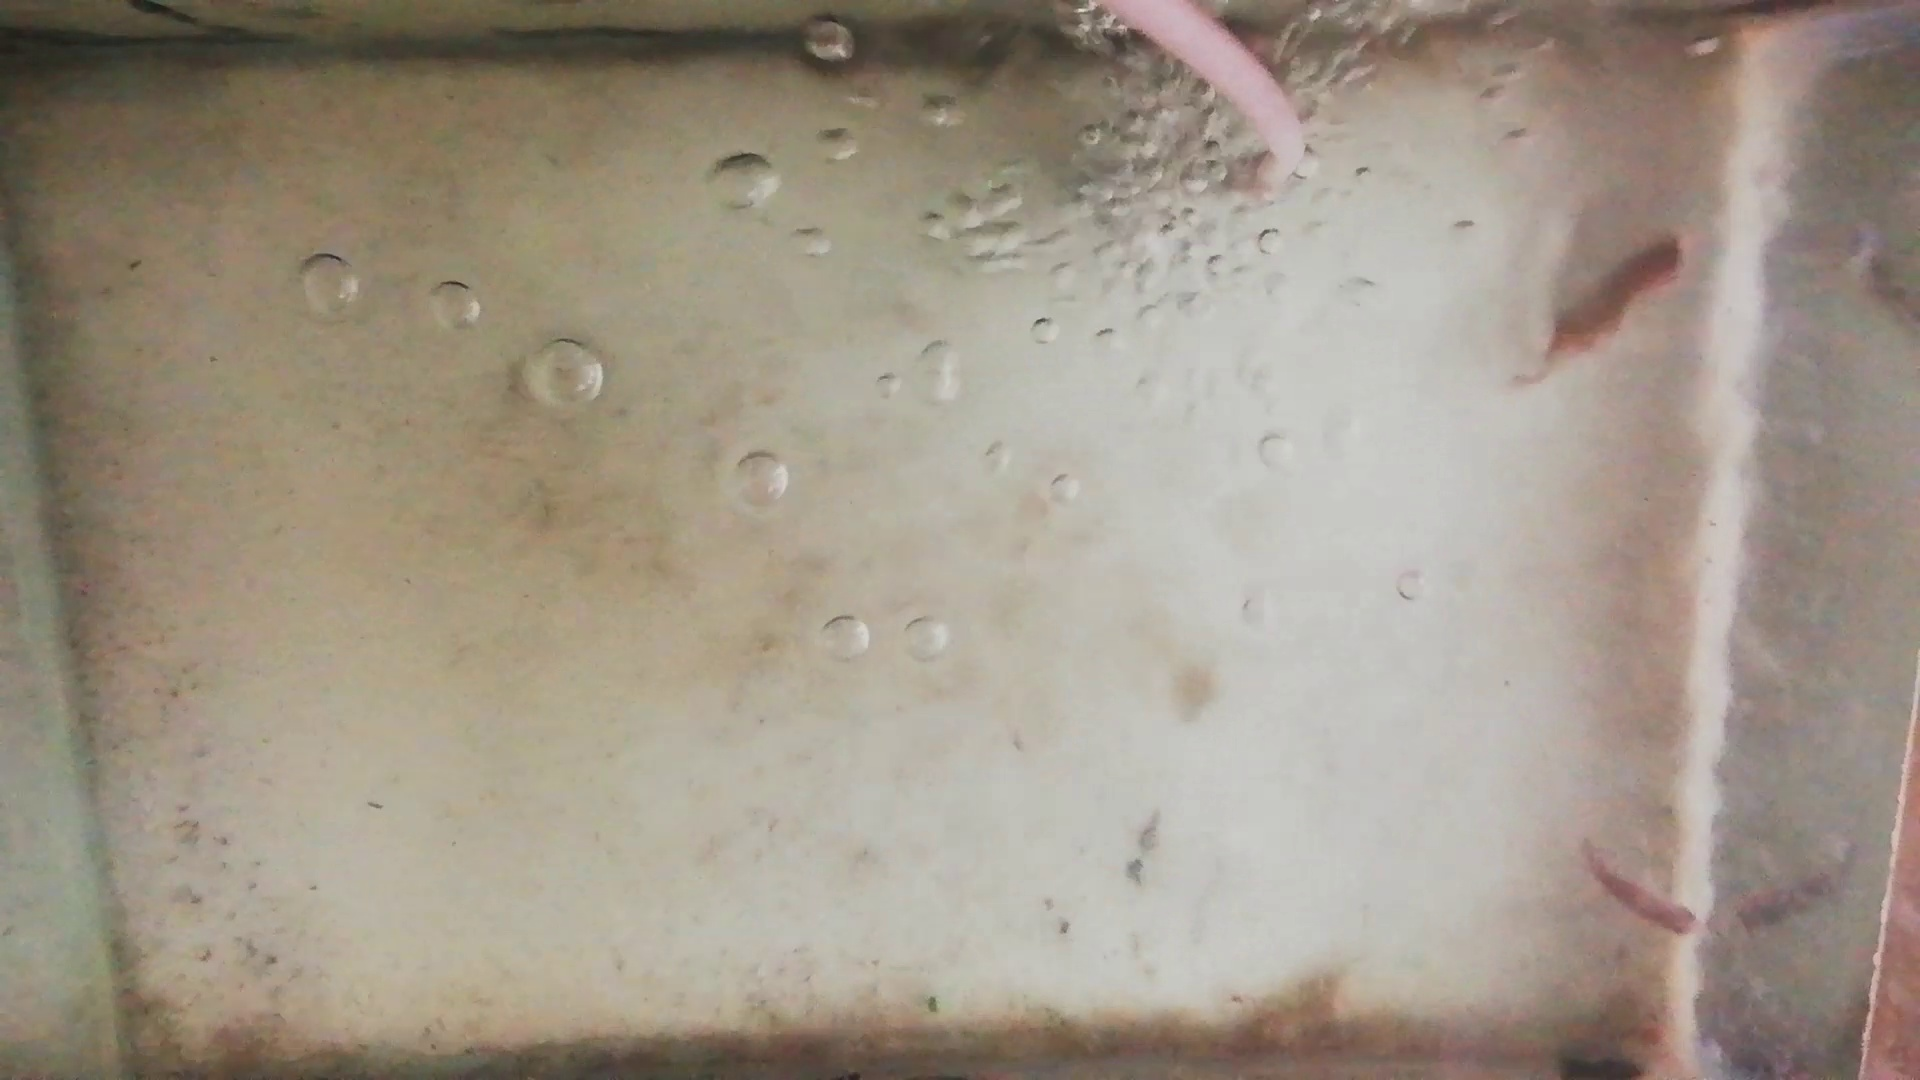fish: (1538, 232, 1691, 378), (1582, 833, 1698, 936)
